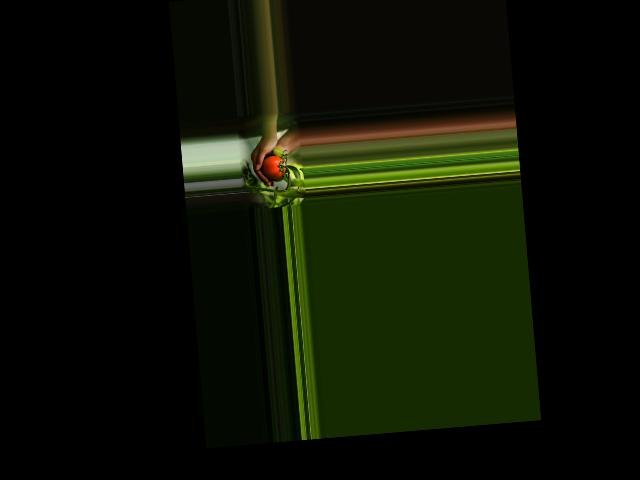tomato: (260, 154, 286, 179)
